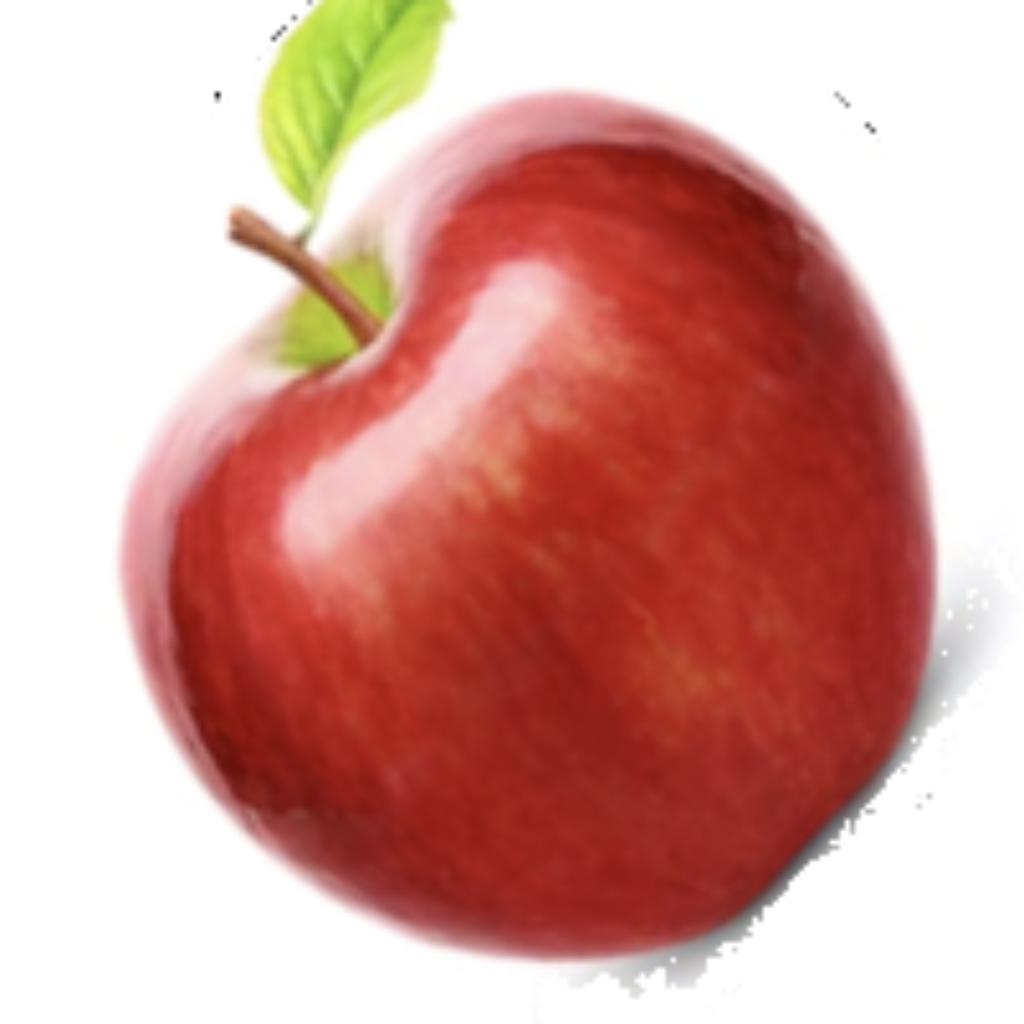apple: (108, 0, 1019, 998)
